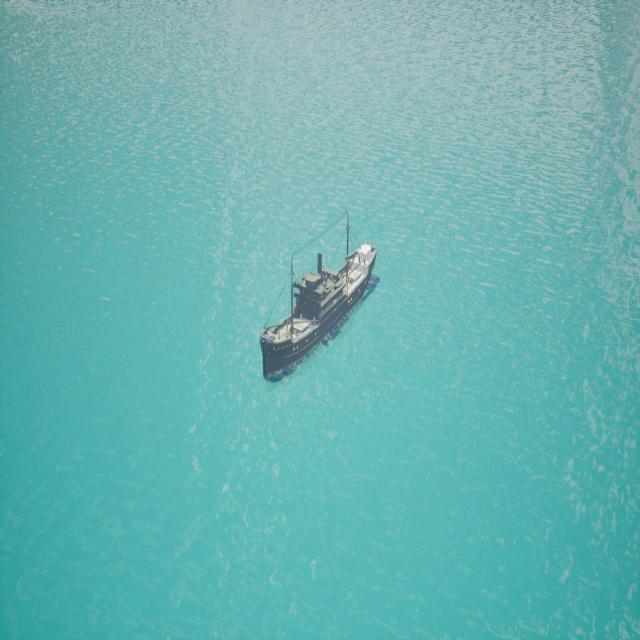fishing ship: (259, 243, 383, 385)
